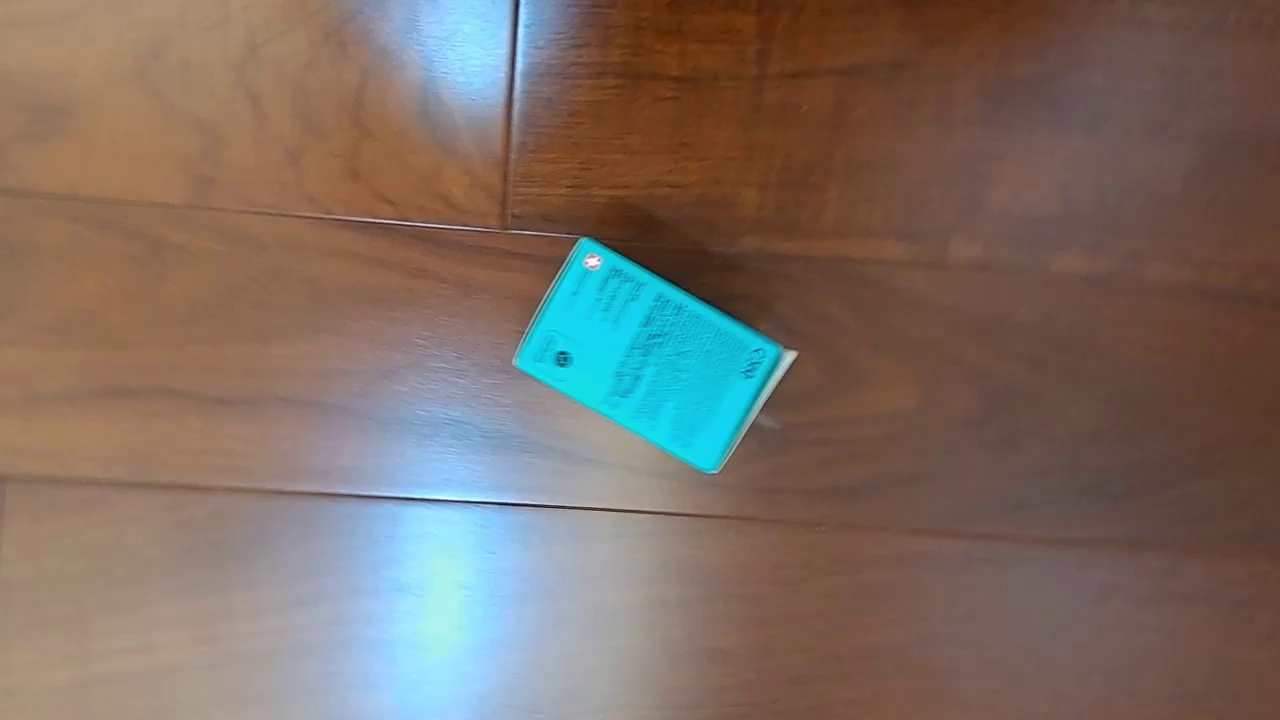webcam: (508, 233, 802, 479)
